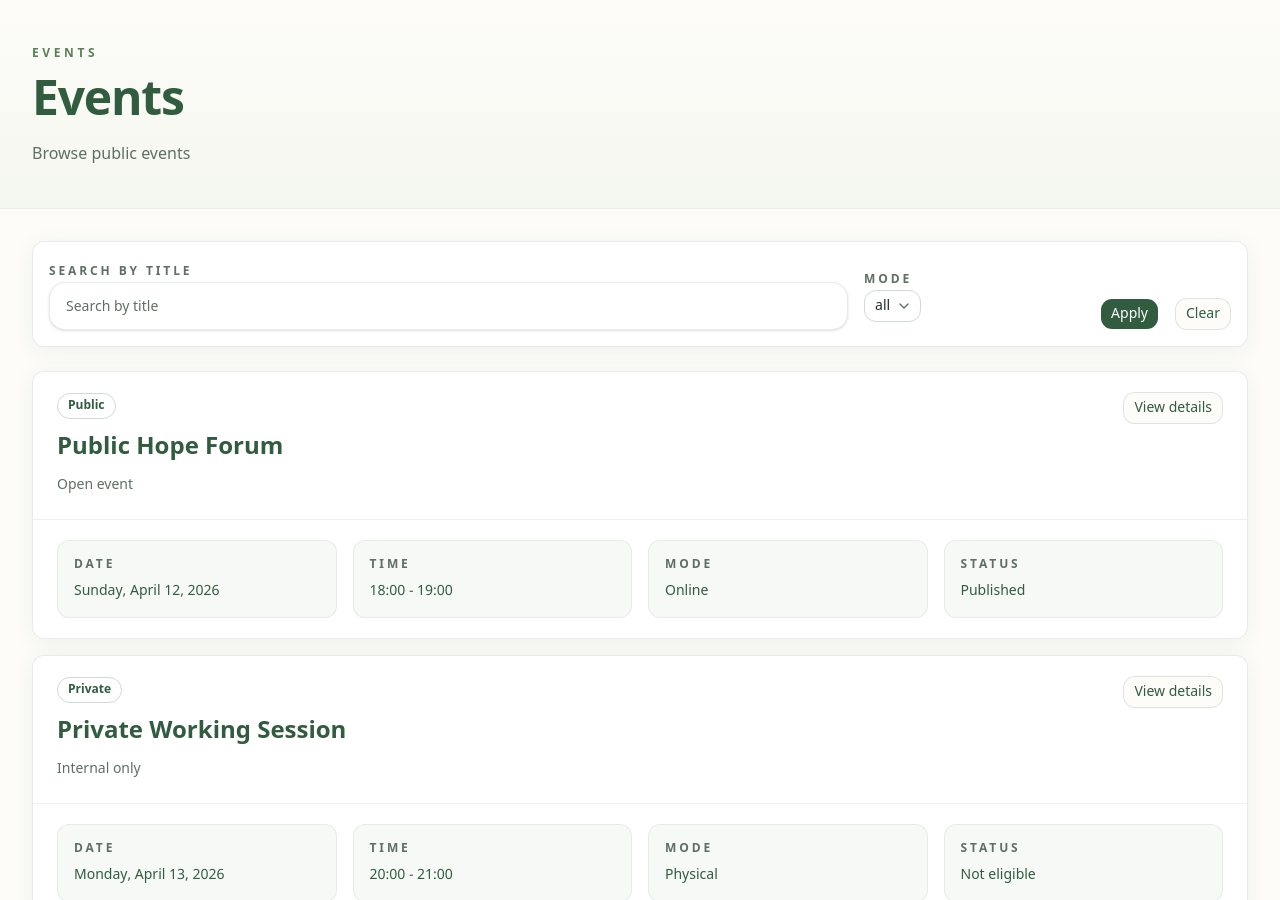
it: EventDirectory › renders events and filters by title
Check: the heading "Public Hope Forum" is shown, box x1=57 y1=431 x2=283 y2=463
Check: the heading "Private Working Session" is shown, box x1=57 y1=715 x2=346 y2=747
Type "Hope" into the field with placeholder "Search by title" at x=449, y=306, box x1=49 y1=282 x2=848 y2=330
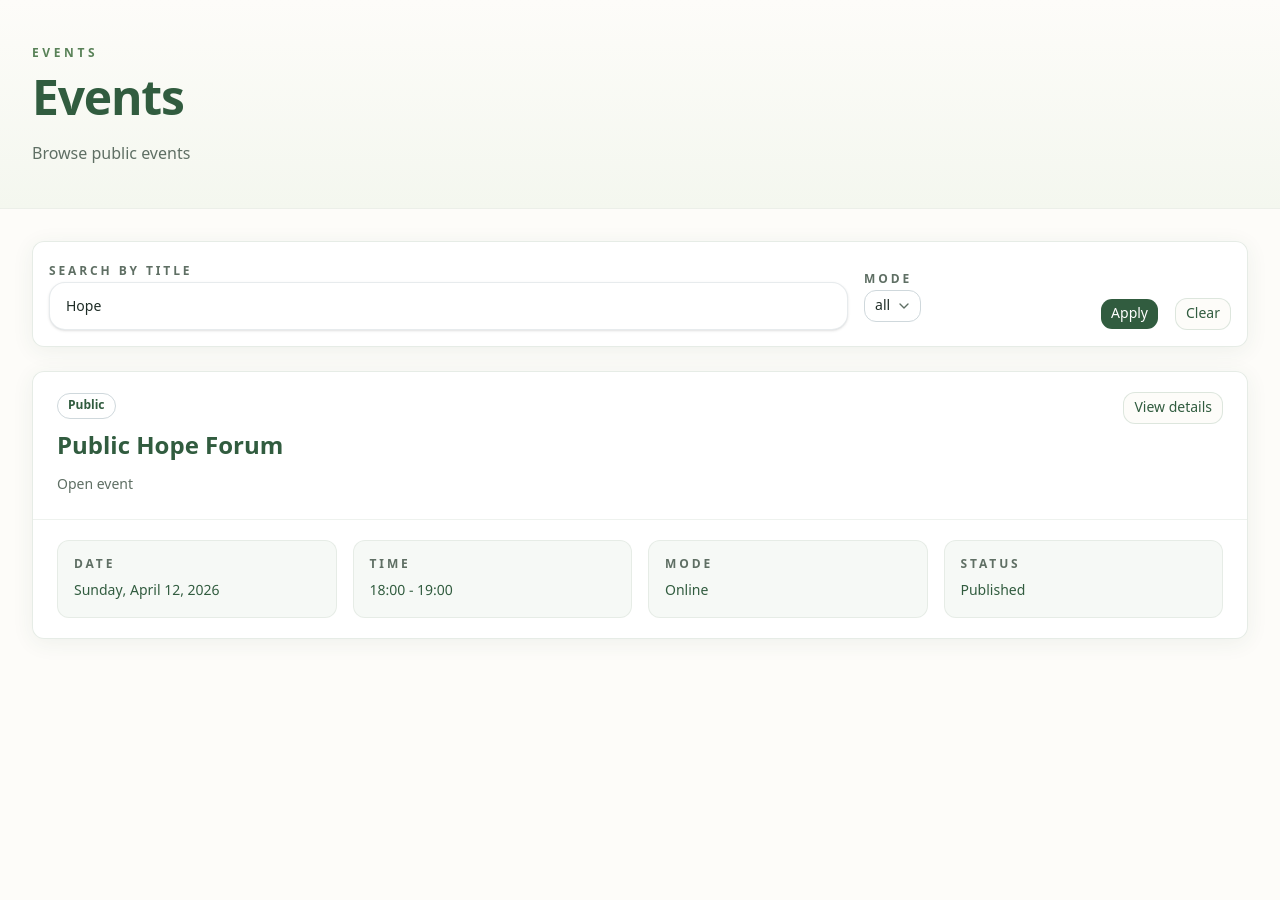
Check: the heading "Public Hope Forum" is shown, box x1=57 y1=431 x2=283 y2=463
Check: the heading "Private Working Session" is gone
